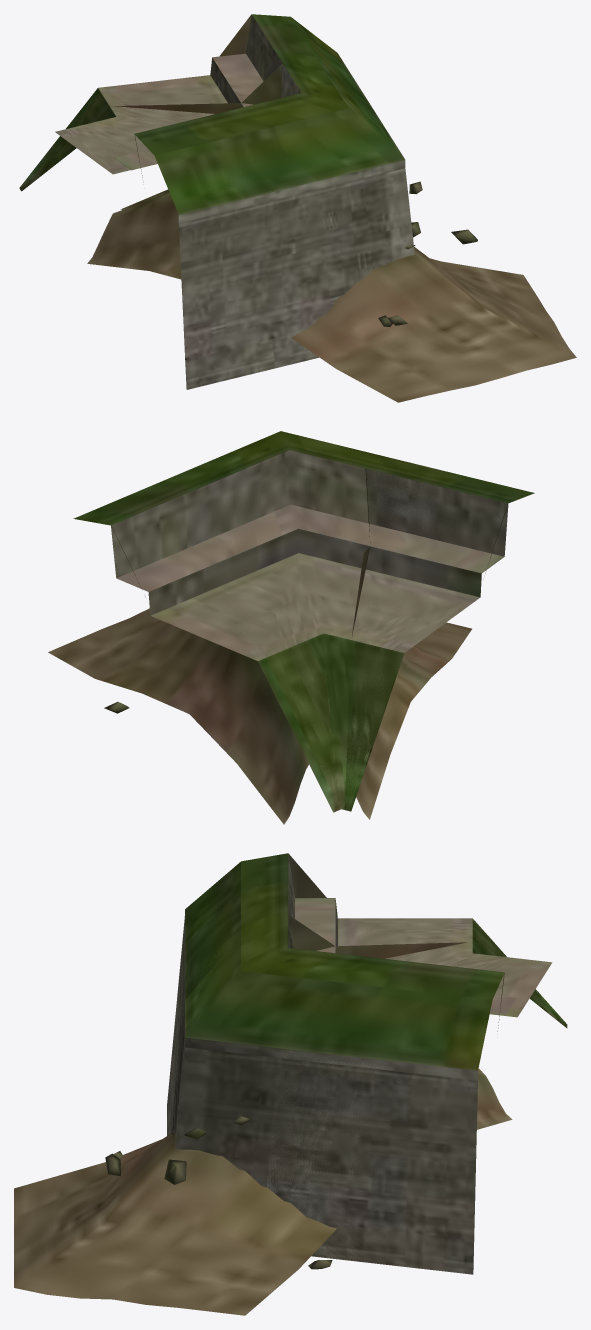
The model's file is starfort_bastion_shoulder_a75_far.glb.
3 renders of one model, top to bottom at view 1: azimuth 30°, elevation 25°; view 2: azimuth 150°, elevation 25°; view 3: azimuth 270°, elevation 25°, orthographic. The views are drawn at different scales.
Visible parts, largest first — view 1: breached, intact, endcap_b; view 2: intact, breached; view 3: intact, breached, endcap_a.
Part boxes in pixels (x1,y1,x2,y2): breached: (24,15,576,402); intact: (19,14,414,389); endcap_b: (219,14,251,56); intact: (73,431,534,812); breached: (48,454,532,824); intact: (167,853,567,1274); breached: (14,853,563,1315); endcap_a: (169,853,326,1075).
Size of what is drawn, in the model's own units: 11.07 by 6.25 by 12.52.
1 material, 1 textured.
